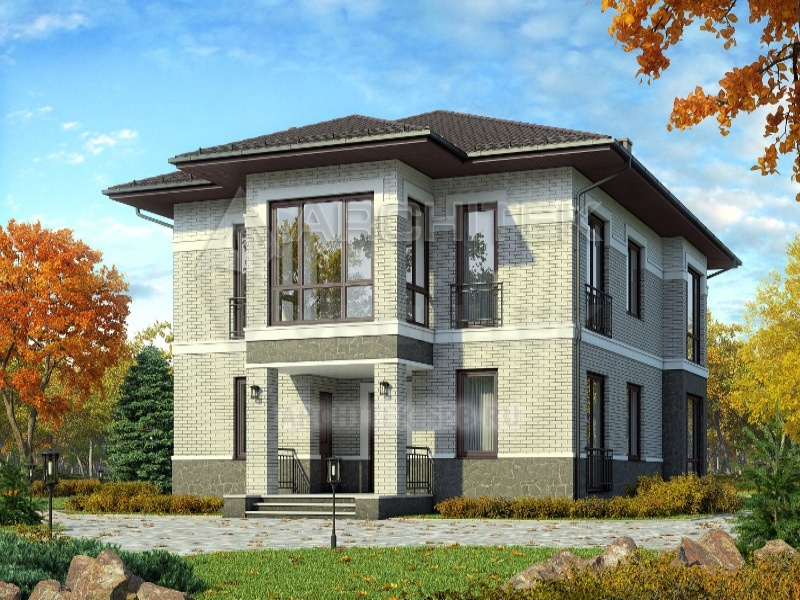window: (264, 190, 376, 319), (456, 200, 500, 318), (451, 366, 500, 458), (404, 197, 435, 325)
